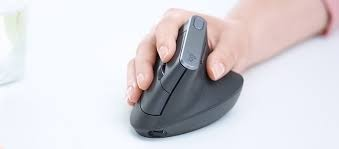mouse: (128, 13, 246, 146)
